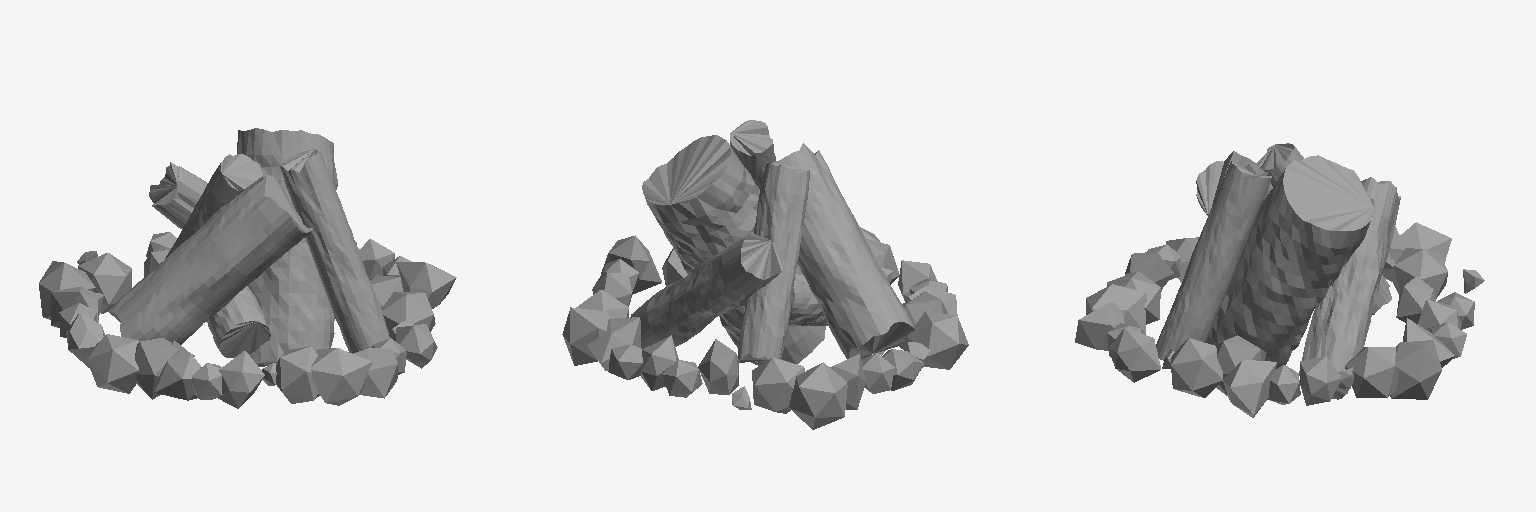
Rendered from Low_Poly_Campfire 1.obj.
3 renders of one model, left to right at view 1: azimuth 30°, elevation 25°; view 2: azimuth 150°, elevation 25°; view 3: azimuth 270°, elevation 25°, orthographic.
Parts seen in each view (by area): view 1: Campfire_Cylinder.001; view 2: Campfire_Cylinder.001; view 3: Campfire_Cylinder.001.
Part boxes in pixels (x1,y1,x2,y2): Campfire_Cylinder.001: (39, 128, 456, 408); Campfire_Cylinder.001: (562, 120, 968, 429); Campfire_Cylinder.001: (1075, 143, 1484, 417).
Bounding box in the file's own units: 2.57 × 1.54 × 2.54.